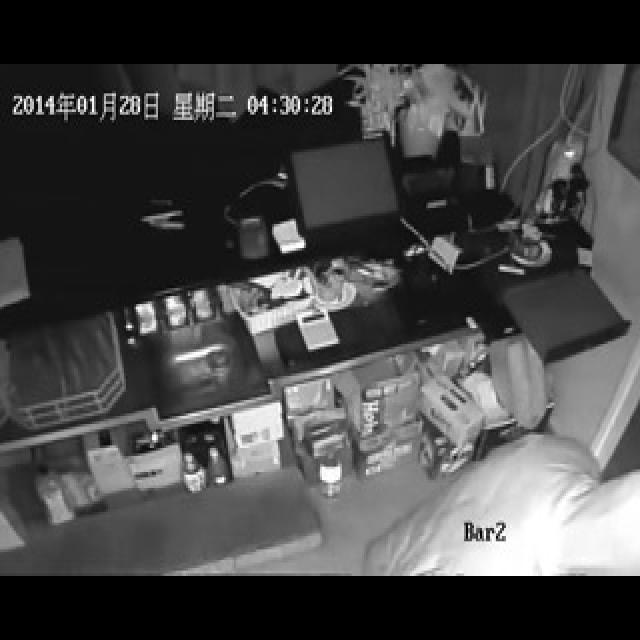thief: (448, 460, 640, 579)
